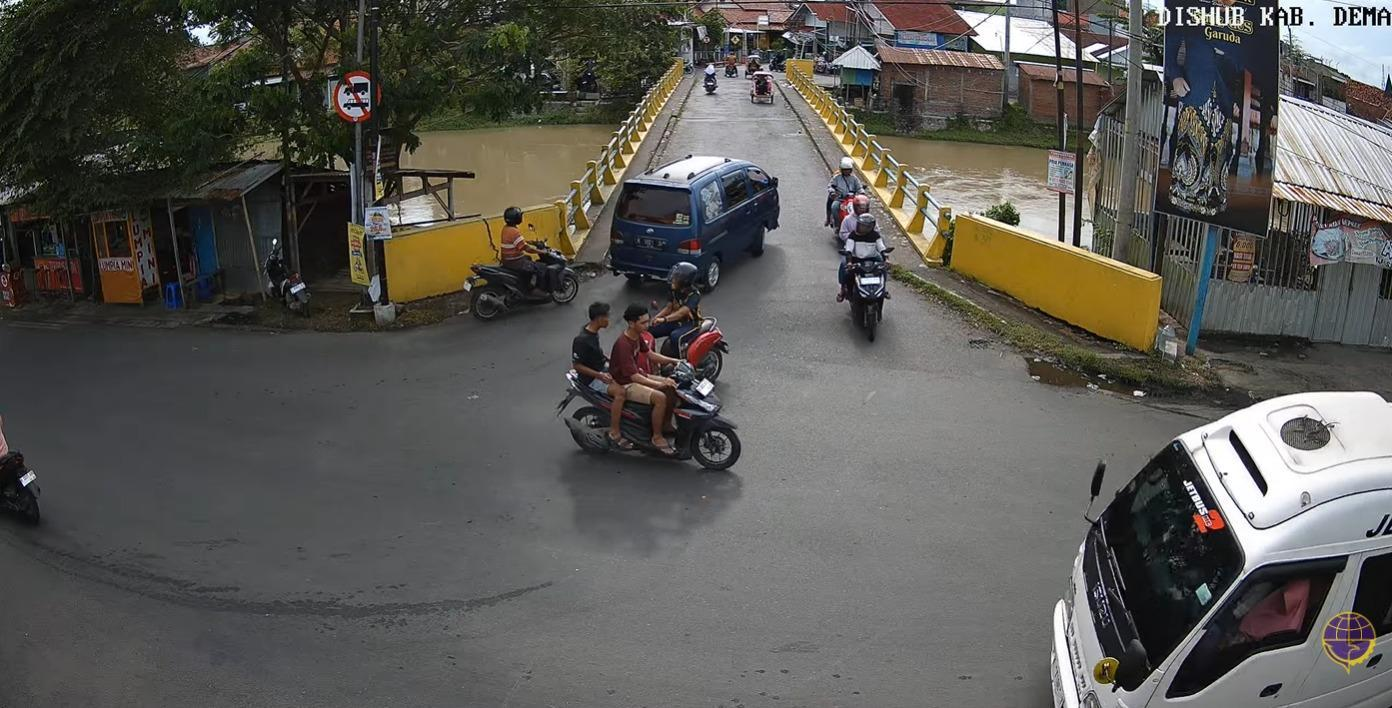Helmet: (668, 261, 698, 290), (856, 213, 876, 234), (503, 206, 522, 225), (853, 195, 869, 213), (840, 157, 854, 169)
Number Plate: (634, 237, 665, 249), (696, 379, 713, 395), (19, 470, 35, 486), (858, 276, 883, 285), (290, 283, 306, 293), (463, 281, 474, 292)
Rearview Mirror: (1114, 638, 1148, 691), (1090, 460, 1105, 498), (770, 178, 779, 186), (271, 238, 278, 247)
